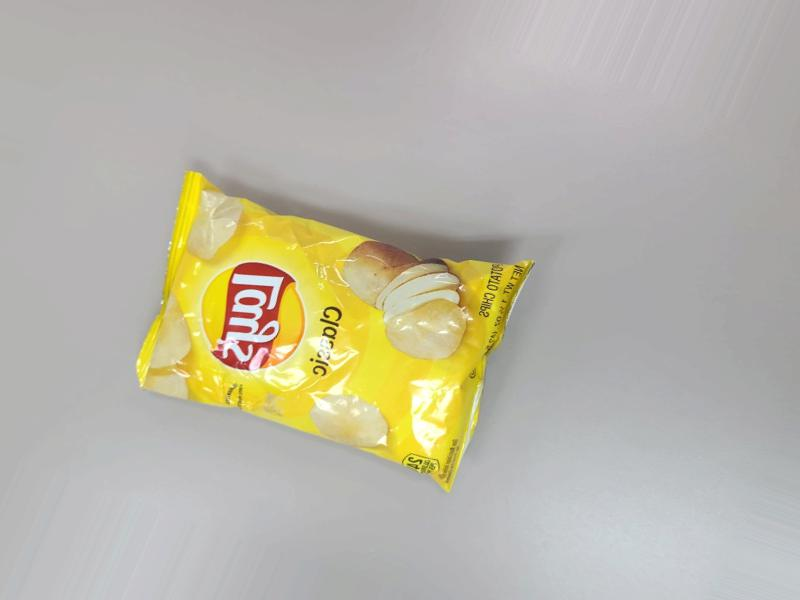lays: (143, 176, 528, 498)
